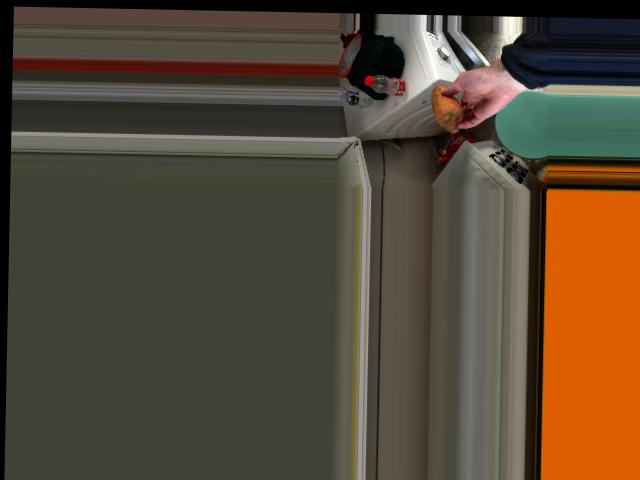sweet_potato: (430, 86, 468, 128)
